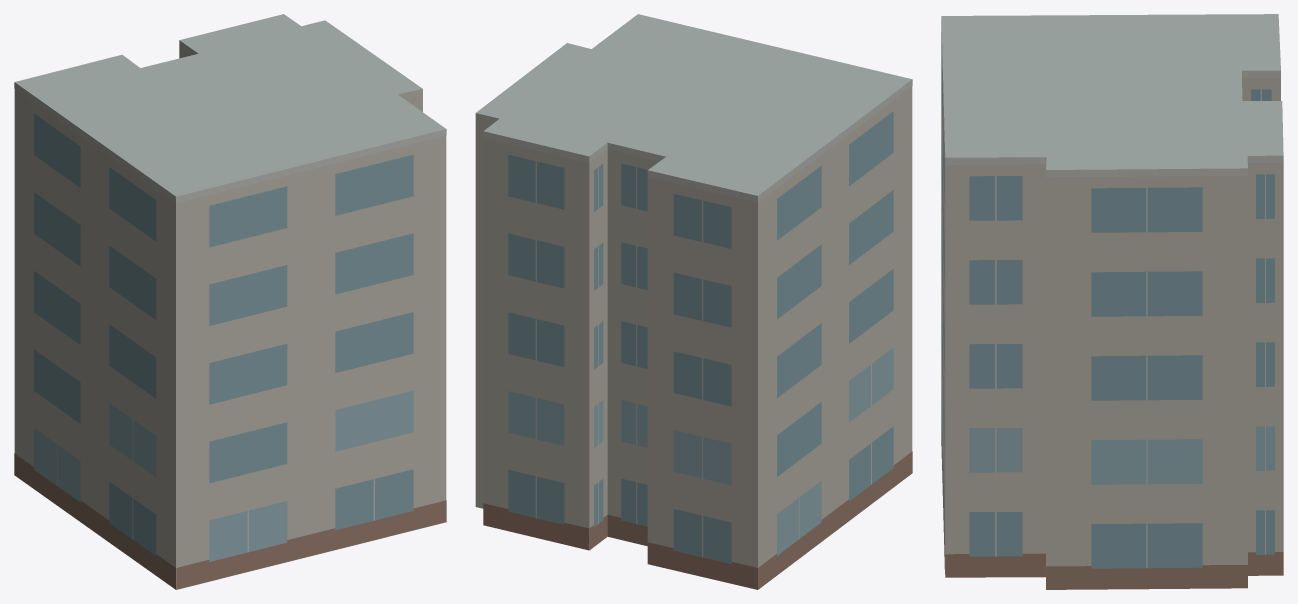
The model's file is survey-upis-32944948.glb.
3 renders of one model, left to right at view 1: azimuth 30°, elevation 25°; view 2: azimuth 150°, elevation 25°; view 3: azimuth 270°, elevation 25°, orthographic. The views are drawn at different scales.
Visible parts, largest first — view 1: survey-upis-32944948.tmp; view 2: survey-upis-32944948.tmp; view 3: survey-upis-32944948.tmp.
Boxes of the visible parts, bbox=[...] form: survey-upis-32944948.tmp: bbox=[14, 14, 446, 589]; survey-upis-32944948.tmp: bbox=[475, 14, 912, 589]; survey-upis-32944948.tmp: bbox=[941, 14, 1283, 589].
Bounding box in the file's own units: 11.41 × 14.3 × 10.57.
